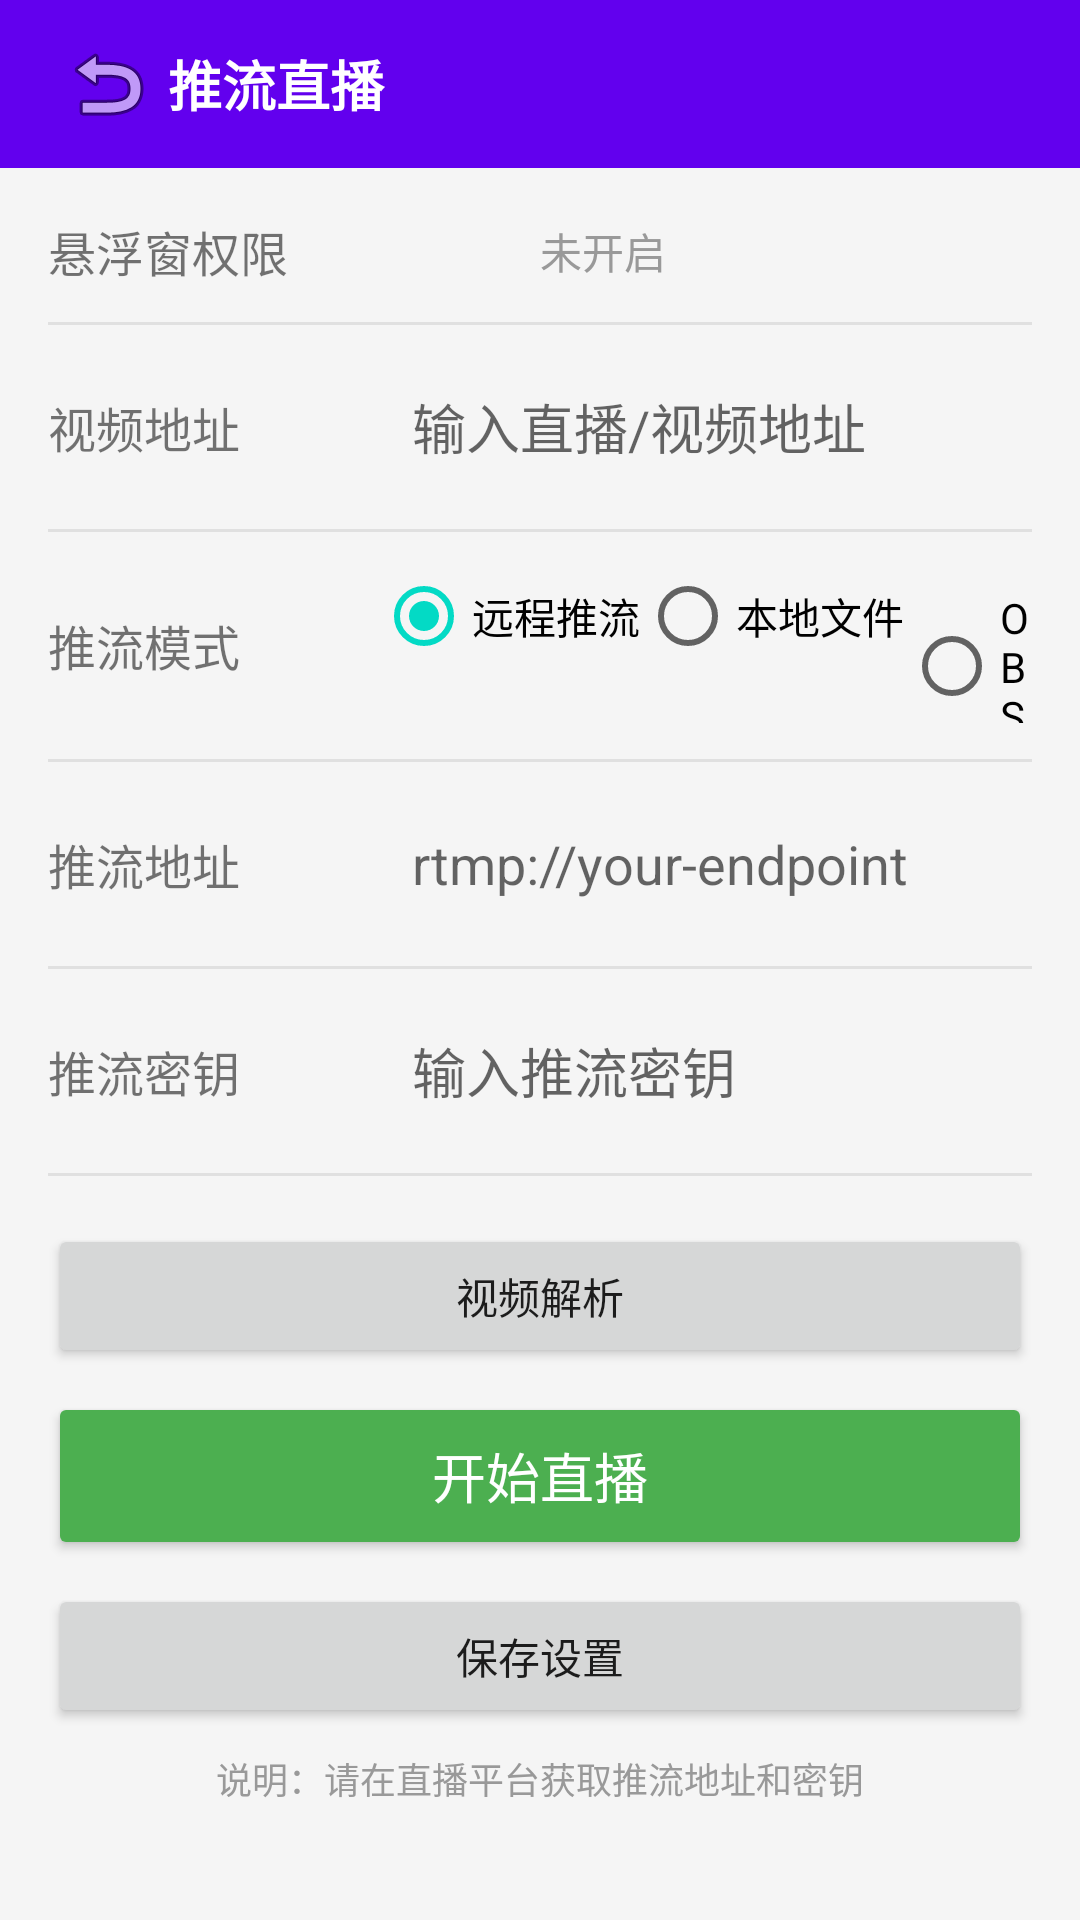

Locate icon controls on the screen. Image size 1080 × 1920, boxes as (x1, y1, x2, y2).
revert: (75, 53, 144, 116)
